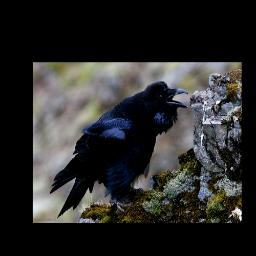Crow: (50, 80, 189, 220)
